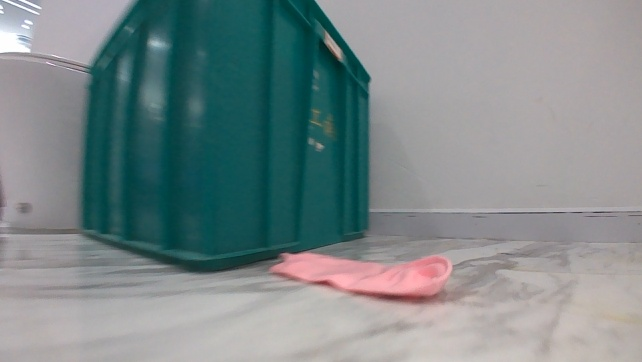socks: (266, 248, 453, 301)
toilet: (0, 46, 95, 236)
